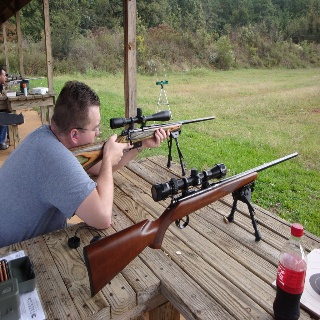rifle: (81, 151, 299, 298), (66, 106, 218, 170)
